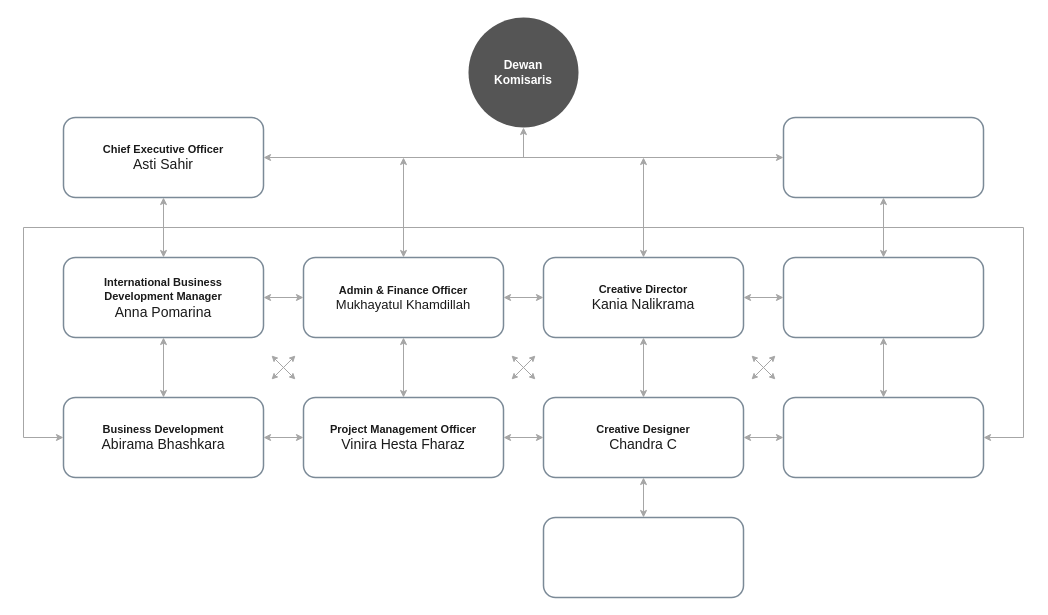
Image size: 1048x615. Some labels were removed from this diagram. Each missing label, with the box of its shape:
Chief Technology Officer Jefri Yushendri: (782, 116, 984, 198)
Creative Designer Farham D: (542, 516, 744, 598)
Head of Innovation & Product Dev Fajri Ramdani: (782, 256, 984, 338)
Senior Fullstack Developer D Ibrahim: (782, 396, 984, 478)
